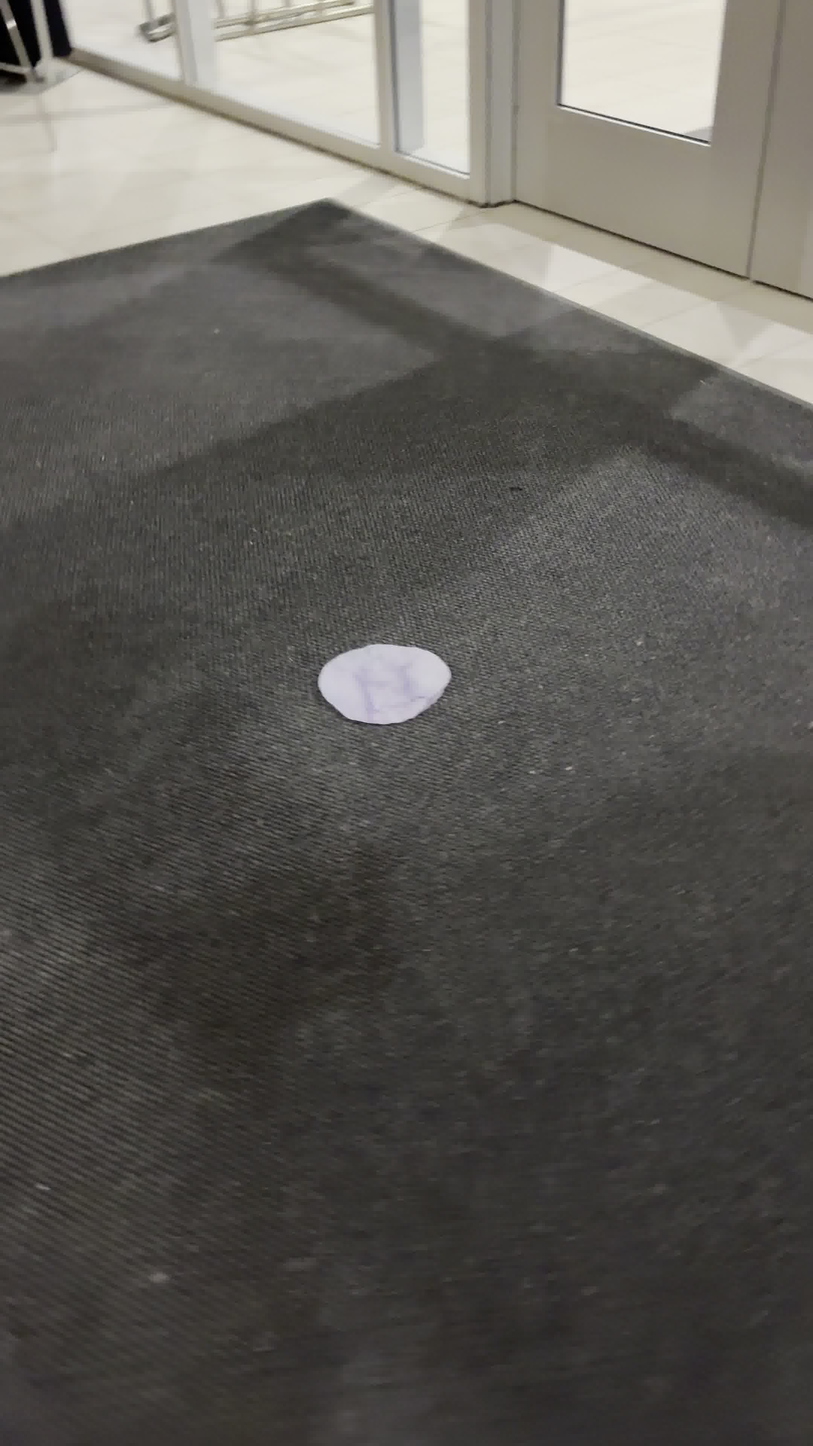Target: (318, 644, 452, 726)
